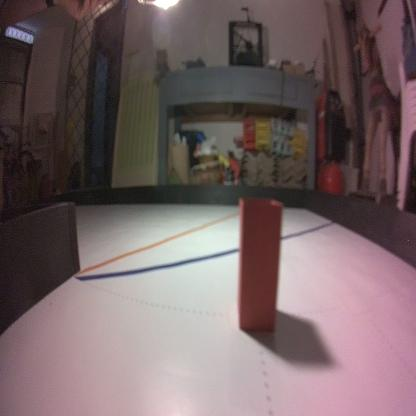red: (236, 195, 284, 332)
